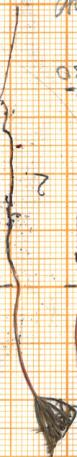flower: (13, 388, 77, 457)
root: (0, 0, 23, 282)
stem: (9, 288, 38, 396)
